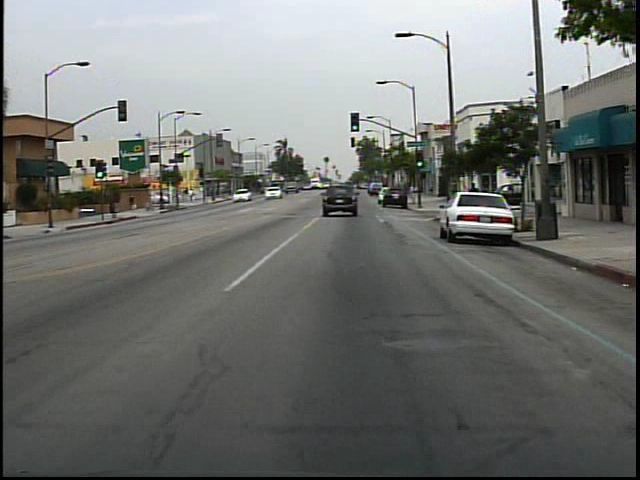person: (464, 178, 484, 217), (125, 192, 145, 220), (188, 187, 197, 206)
